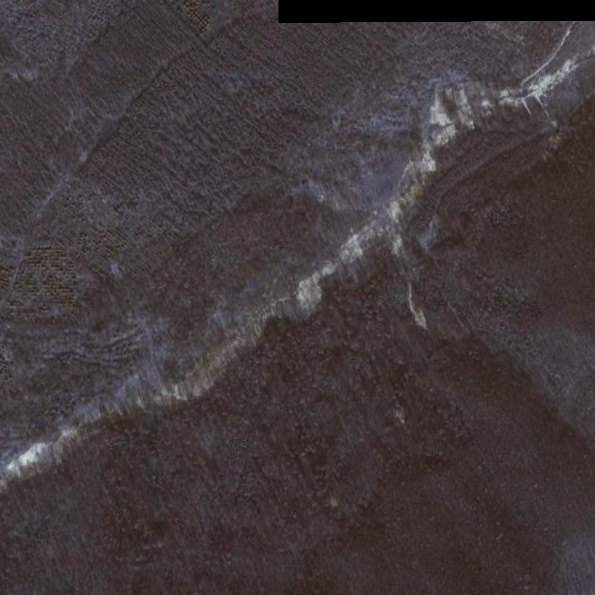slope: (295, 55, 591, 315)
